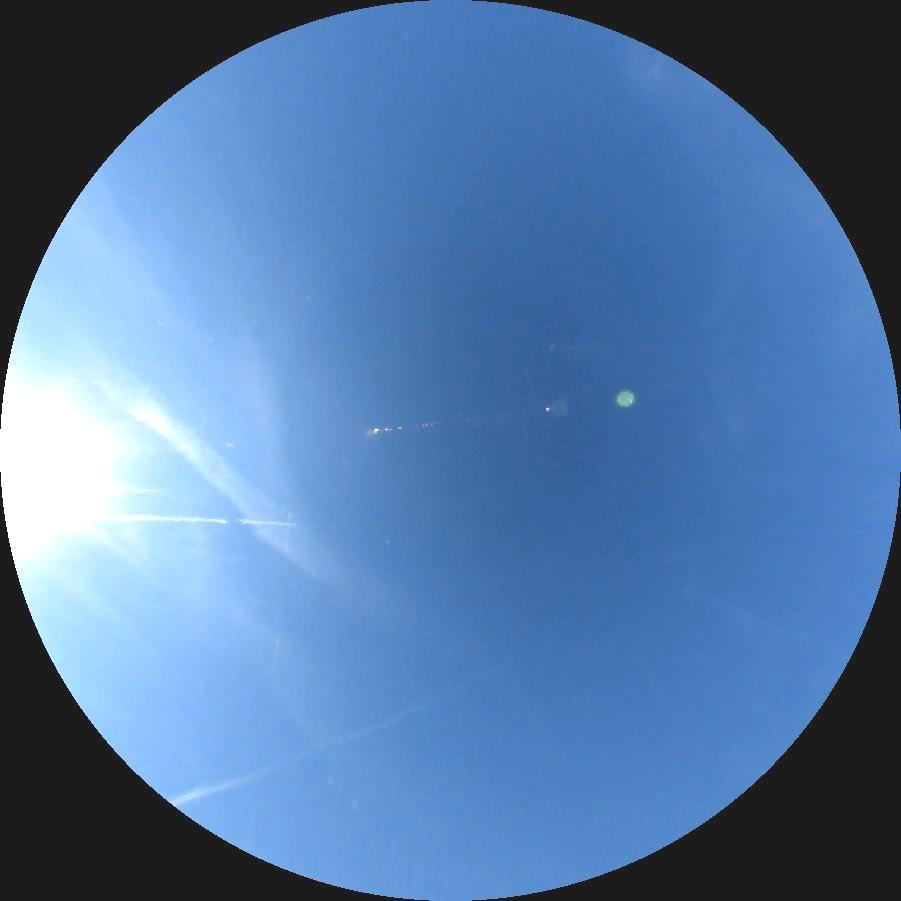contrail old: (169, 652, 525, 816)
contrail veryold: (81, 350, 370, 609)
parasite: (47, 511, 297, 530), (80, 489, 159, 497)
sun: (0, 397, 94, 532)
